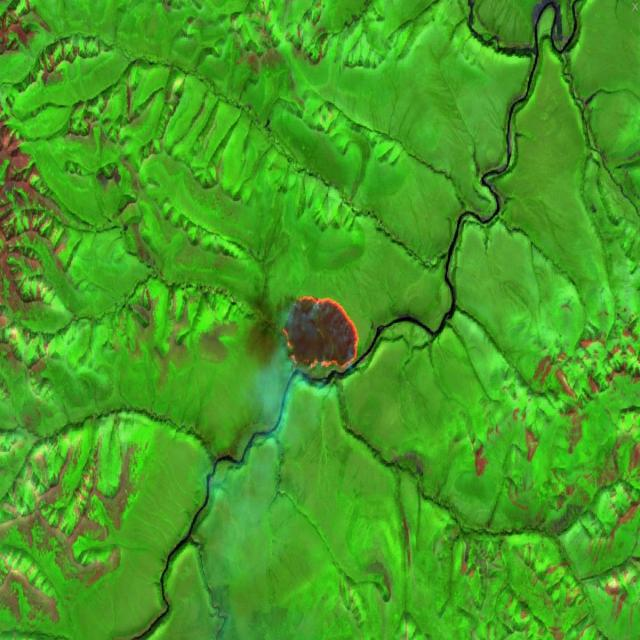fire: (282, 284, 362, 383)
